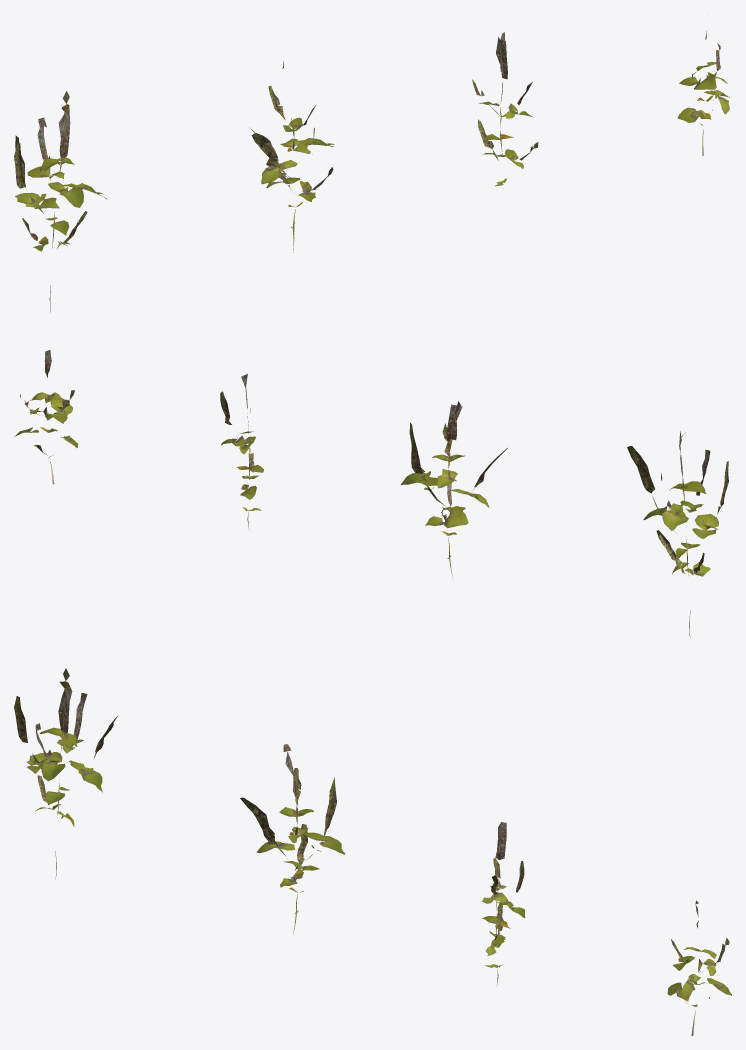
The model's file is shrub_03.glb.
3 views of the same model, one above another, from view 1: azimuth 30°, elevation 25°; view 2: azimuth 150°, elevation 25°; view 3: azimuth 330°, elevation 25° (orthographic). The views are drawn at different scales.
Visible parts, largest first — view 1: shrub_03; view 2: shrub_03; view 3: shrub_03.
Part boxes in pixels (left/top/right/bottom): shrub_03: left=14, top=31, right=729, bottom=312; shrub_03: left=14, top=350, right=728, bottom=638; shrub_03: left=14, top=668, right=731, bottom=1035.
Bounding box in the file's own units: 1.37 × 0.4026 × 0.1431.
1 material, 1 textured.
